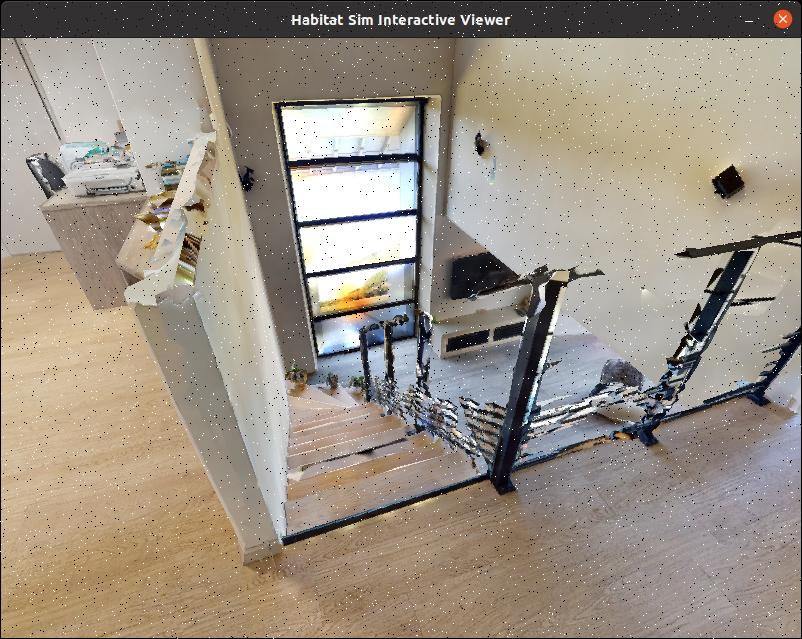stairs: (187, 213, 490, 591)
